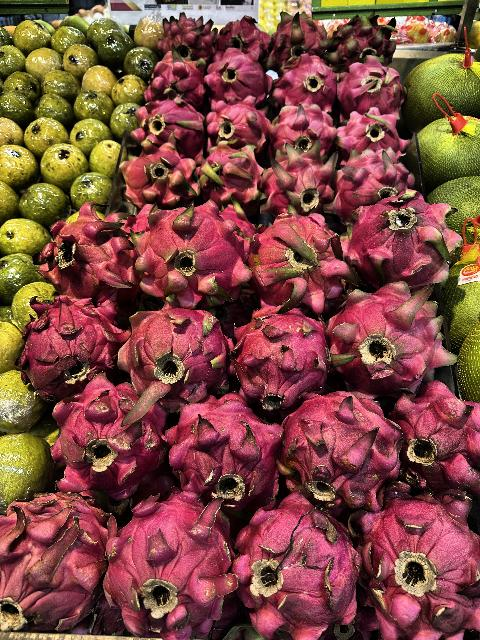buah-naga-belum-matang: (119, 136, 203, 208), (262, 141, 342, 209), (190, 134, 260, 206), (337, 150, 407, 208), (332, 12, 398, 62)
buah-naga-matang: (348, 497, 480, 637), (240, 490, 366, 636), (118, 488, 234, 638), (0, 486, 112, 636), (40, 370, 170, 490), (114, 294, 237, 410), (328, 290, 460, 394), (282, 388, 396, 508), (169, 392, 283, 510), (133, 194, 253, 302), (250, 202, 354, 316), (234, 298, 332, 414), (7, 287, 122, 383), (30, 212, 144, 306), (347, 207, 466, 293), (388, 387, 480, 493), (133, 98, 209, 152), (337, 58, 411, 112), (273, 46, 333, 106), (202, 52, 276, 96), (148, 55, 208, 108), (210, 99, 272, 150), (338, 108, 408, 152), (270, 98, 332, 146), (266, 14, 326, 60), (216, 12, 268, 58), (158, 14, 212, 56)
